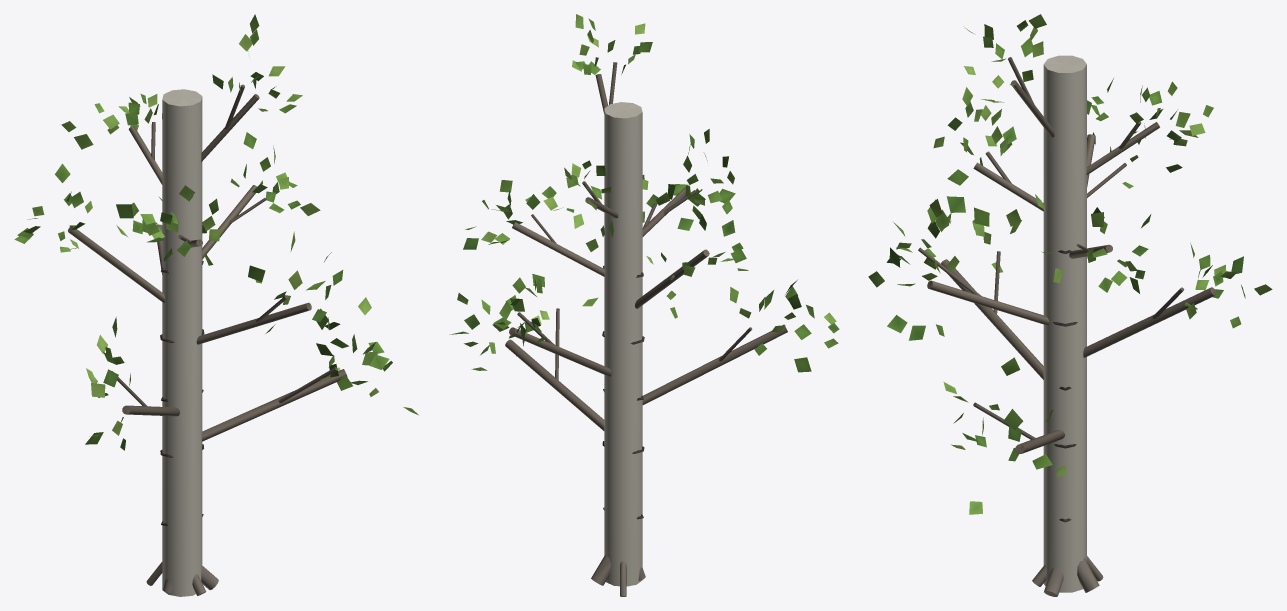
Rendered from small-lod1.glb.
3 renders of one model, left to right at view 1: azimuth 30°, elevation 25°; view 2: azimuth 150°, elevation 25°; view 3: azimuth 270°, elevation 25°, orthographic. The views are drawn at different scales.
Visible parts, largest first — view 1: birch-bark-branches-buried-roots-ground-blend, birch-bifurcated-twigs-and-leaves; view 2: birch-bark-branches-buried-roots-ground-blend, birch-bifurcated-twigs-and-leaves; view 3: birch-bark-branches-buried-roots-ground-blend, birch-bifurcated-twigs-and-leaves.
Boxes of the visible parts, x1,y1,x2,y2 form: birch-bark-branches-buried-roots-ground-blend: (68, 84, 347, 596); birch-bifurcated-twigs-and-leaves: (14, 14, 418, 450); birch-bark-branches-buried-roots-ground-blend: (505, 62, 787, 596); birch-bifurcated-twigs-and-leaves: (449, 14, 839, 372); birch-bark-branches-buried-roots-ground-blend: (918, 55, 1215, 596); birch-bifurcated-twigs-and-leaves: (868, 14, 1272, 514).
Bounding box in the file's own units: 8.15 × 12.62 × 7.63.
